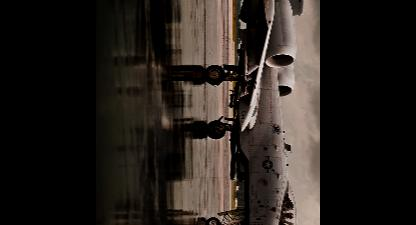A10: (207, 0, 311, 224)
